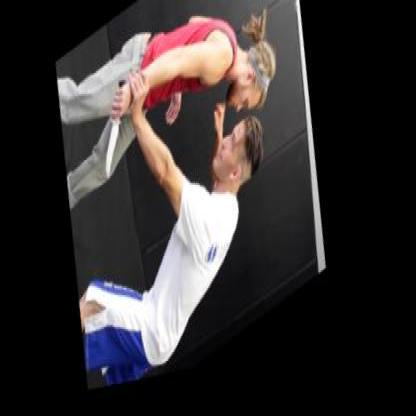knife: (88, 74, 146, 196)
